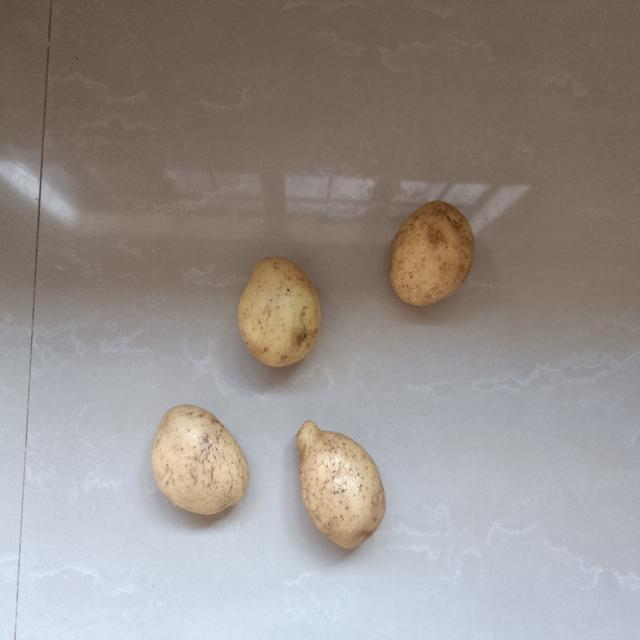potato: (294, 416, 390, 560), (149, 401, 254, 518), (233, 251, 327, 376), (385, 195, 481, 312)
